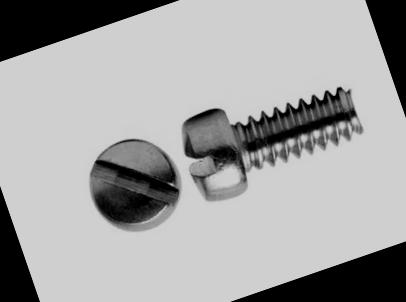slotted: (76, 126, 192, 244)
